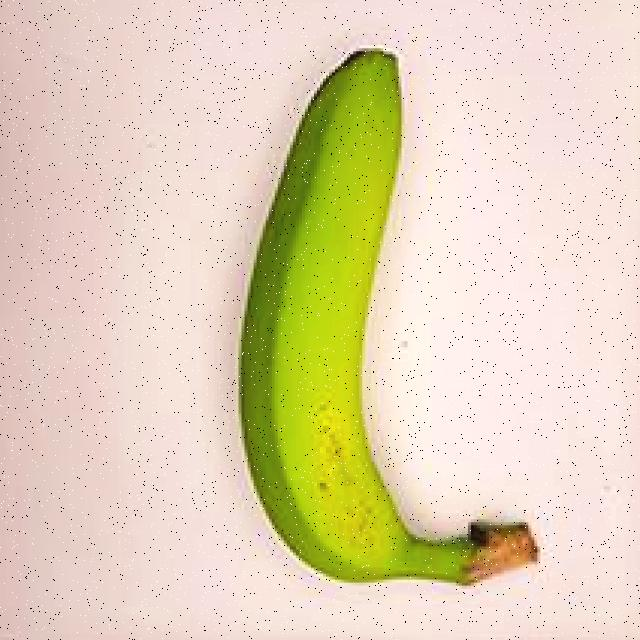Unripe: (176, 7, 550, 611)
